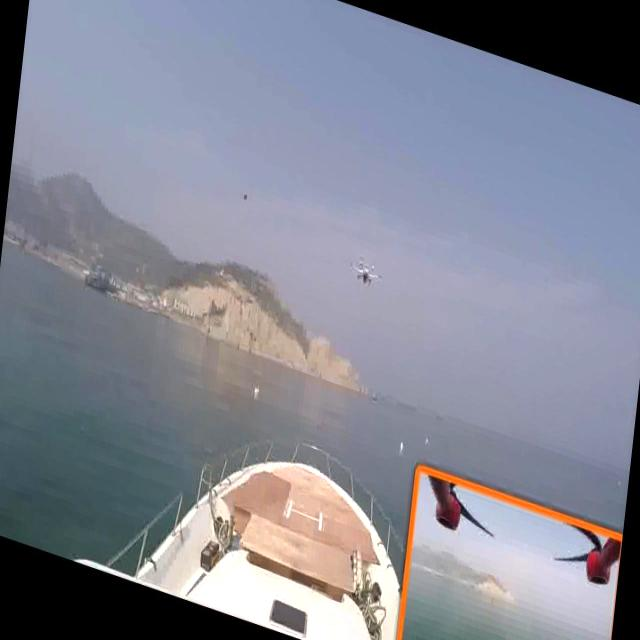drone: (342, 244, 386, 296)
